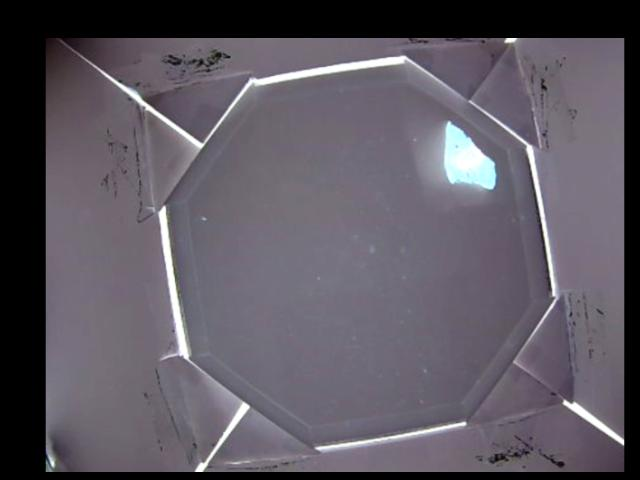Brisk: (447, 120, 495, 189)
